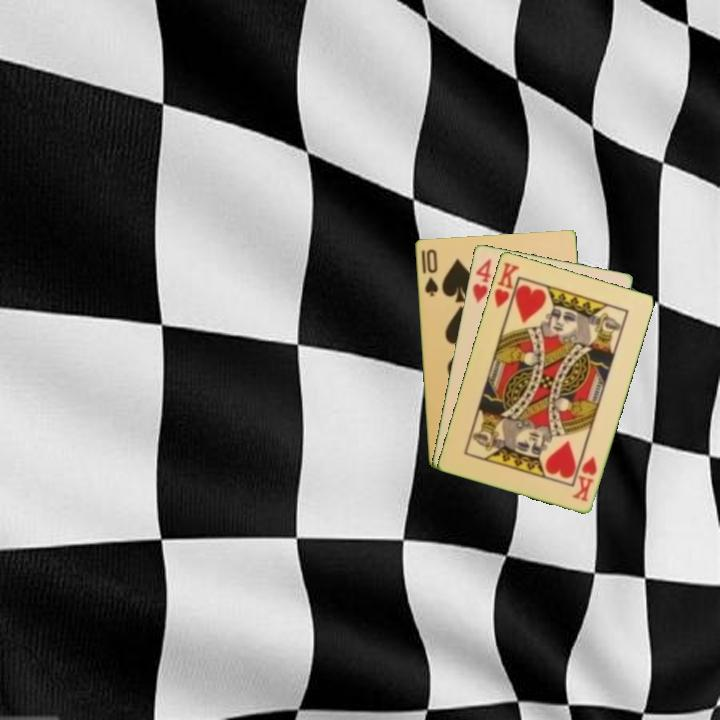10s: (421, 246, 441, 299)
4h: (469, 254, 494, 306)
Kh: (490, 258, 522, 316), (569, 453, 600, 504)
